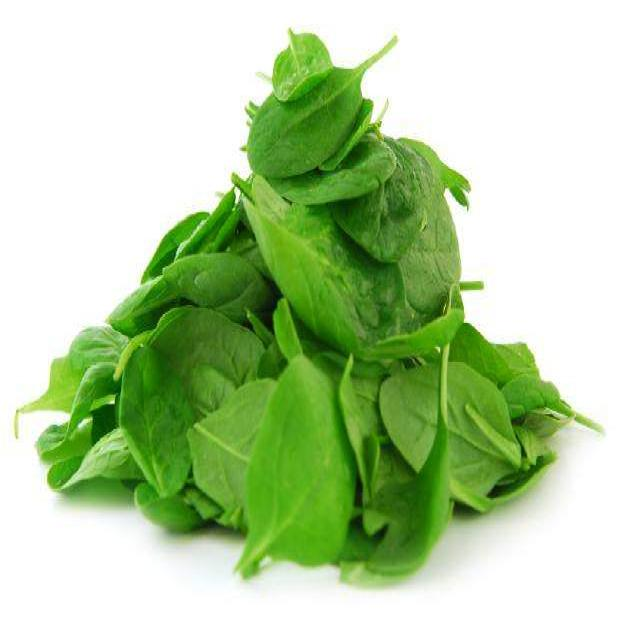spinach: (256, 213, 407, 349), (245, 369, 346, 565), (119, 344, 189, 499), (244, 104, 350, 173), (382, 365, 436, 457), (272, 30, 328, 93)
